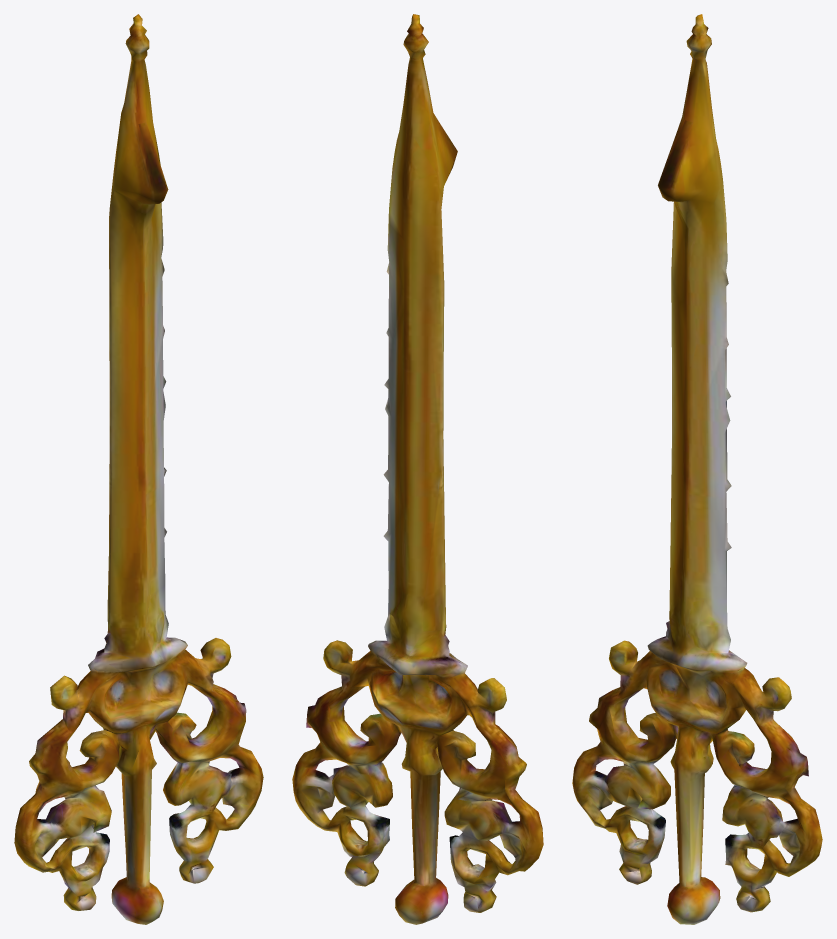
The model's file is prp_rapiere_soleil.glb.
3 renders of one model, left to right at view 1: azimuth 30°, elevation 25°; view 2: azimuth 150°, elevation 25°; view 3: azimuth 330°, elevation 25°, orthographic.
Parts seen in each view (by area): view 1: prp_rapiere_soleil; view 2: prp_rapiere_soleil; view 3: prp_rapiere_soleil.
Part boxes in pixels (x1=…): prp_rapiere_soleil: x1=14, y1=14, x2=263, y2=924; prp_rapiere_soleil: x1=292, y1=14, x2=543, y2=924; prp_rapiere_soleil: x1=572, y1=14, x2=822, y2=924.
Bounding box in the file's own units: 0.3844 × 1.33 × 0.1275.
1 material, 1 textured.
